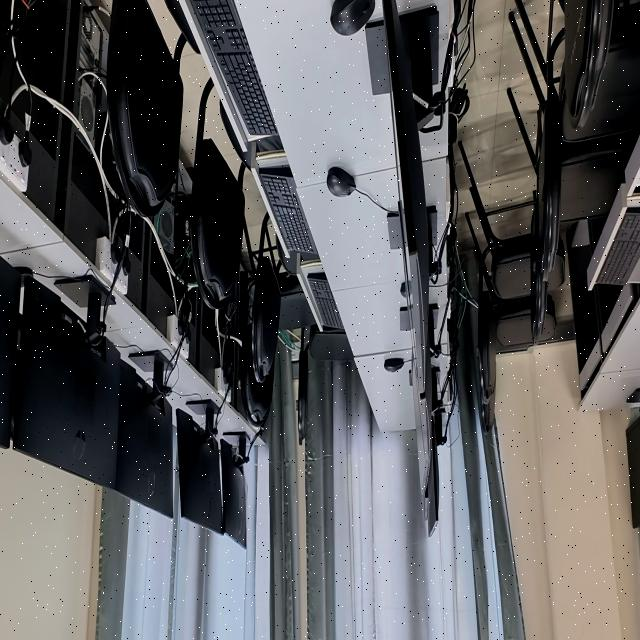Chair: (537, 0, 640, 281), (459, 143, 532, 405), (106, 0, 183, 217), (189, 78, 256, 309), (510, 13, 548, 343), (244, 214, 295, 381), (296, 324, 353, 445), (561, 132, 637, 222), (565, 0, 614, 129), (240, 299, 274, 426), (276, 274, 315, 332), (492, 297, 533, 352), (549, 240, 565, 287), (543, 295, 556, 340), (483, 394, 492, 432)
Cpu: (77, 5, 105, 142), (155, 201, 174, 254)
Keyboard: (190, 0, 278, 138), (258, 168, 318, 254), (596, 208, 640, 285), (307, 273, 343, 329)
Monitor: (14, 278, 120, 489), (383, 0, 431, 392), (114, 363, 173, 515), (177, 403, 224, 534), (0, 257, 21, 447), (220, 440, 246, 548), (413, 360, 431, 497), (425, 416, 439, 537), (626, 417, 640, 527), (626, 219, 631, 226)
Mouse: (330, 0, 375, 35), (326, 167, 356, 198), (384, 358, 404, 373)
